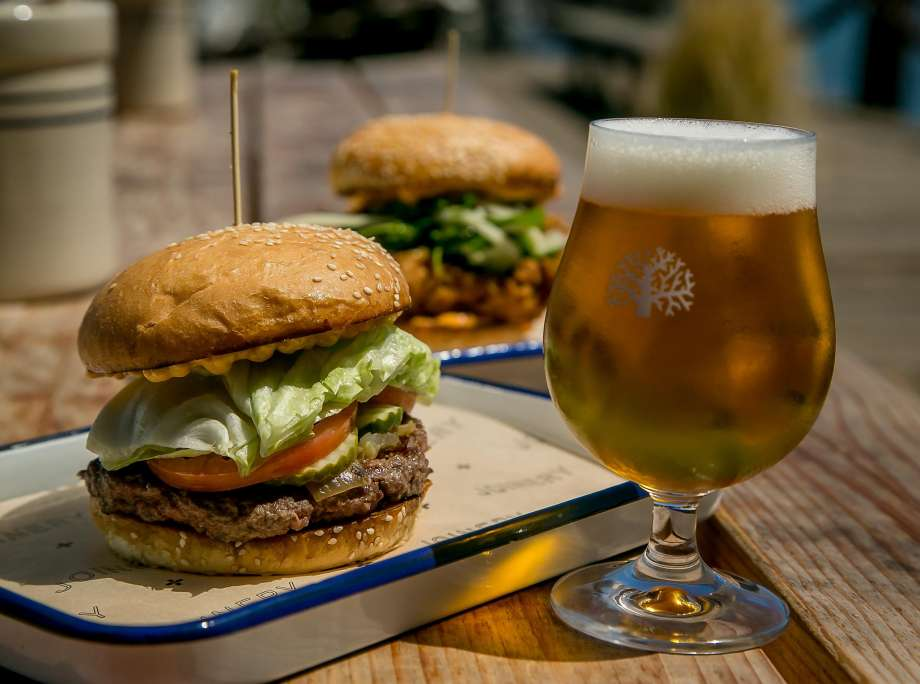hamburger: (70, 196, 443, 567), (337, 102, 558, 337)
